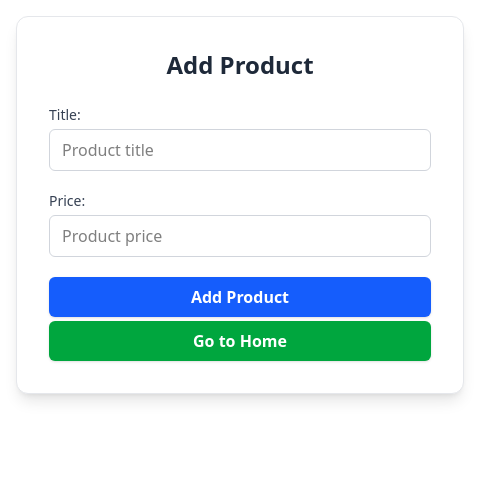
PostProduct Component › submits form and resets fields on success
Type "My Product" into the field labelled "Title:" at (240, 150), box [49, 129, 431, 171]
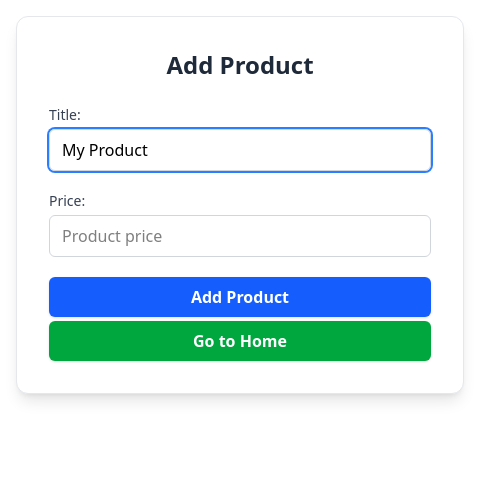
Type "99.99" into the number field labelled "Price:" at (240, 236), box [49, 215, 431, 257]
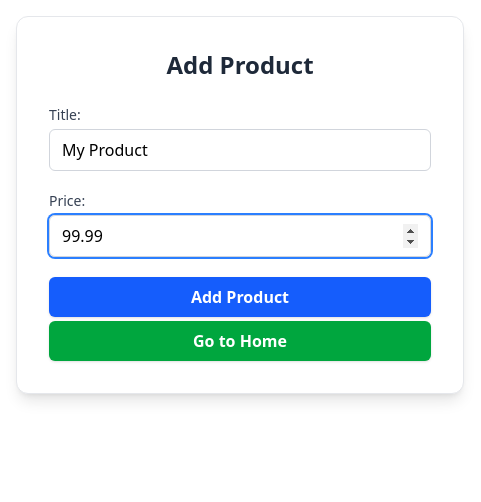
Click the button "Add Product" at (240, 297), box [49, 277, 431, 317]
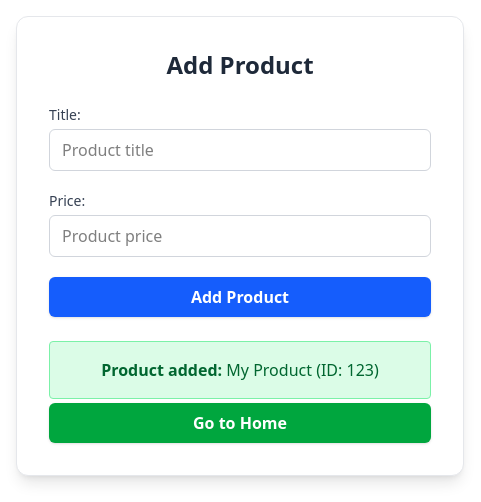
Expected: the text "Product added:" is shown, [101, 359, 222, 381]
Expected: the text "Product added: My Product (ID: 123)" is shown, [49, 341, 431, 399]
Expected: the field labelled "Title:" is empty, [49, 129, 431, 171]
